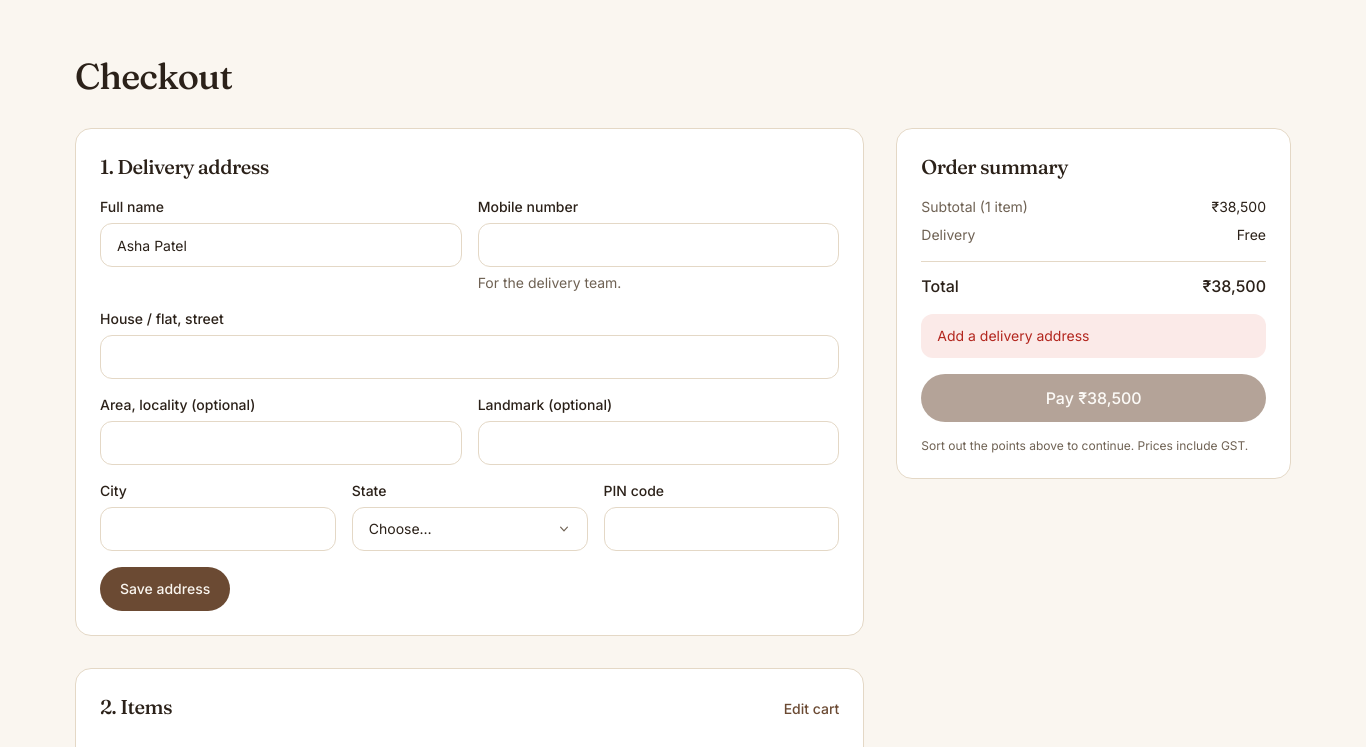
Test: checkout › first address › the form is open, with the name filled in, and checks the fields
expect the field labelled "Full name" holds "Asha Patel": met, box 100,223 -> 462,267
Step 1. Type "12345" into the field labelled "Mobile number" → (659, 245), box 478,223 -> 839,267
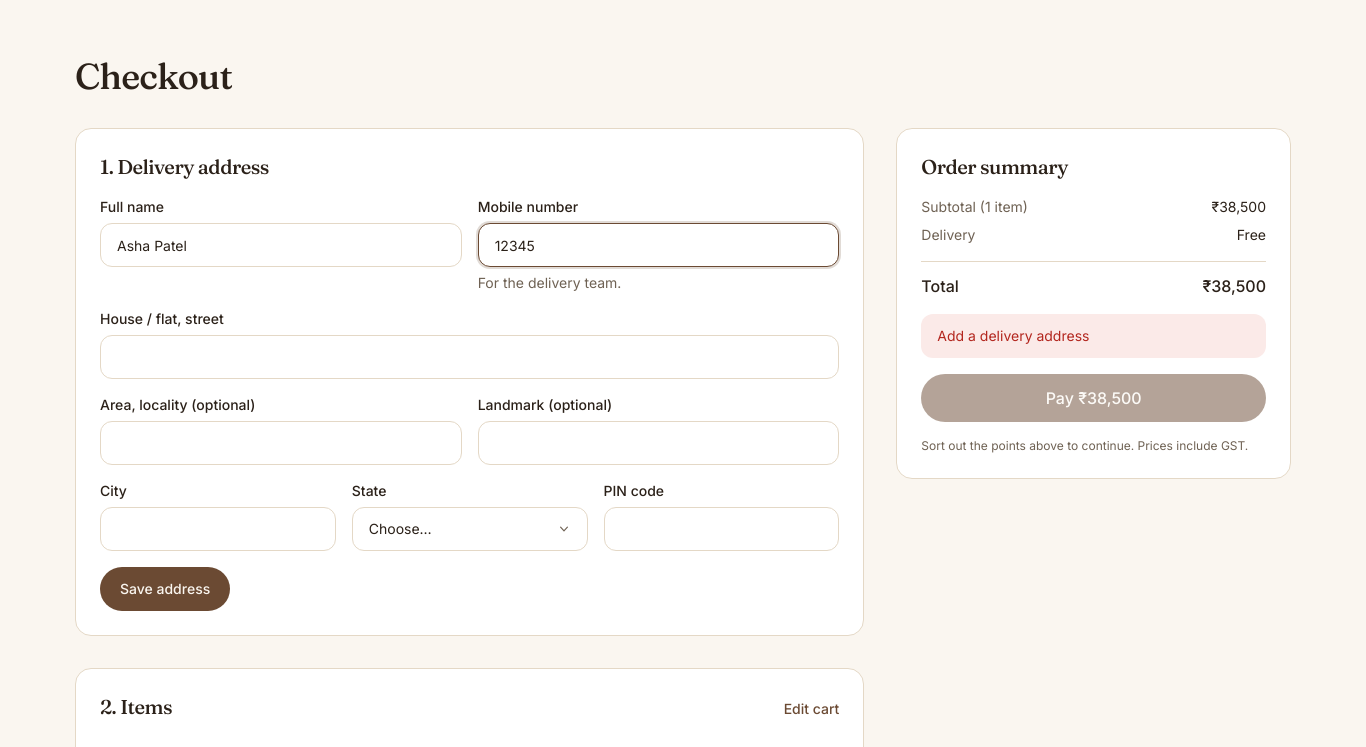
Step 2. Type "38009" into the field labelled "PIN code" → (721, 529), box 604,507 -> 839,551
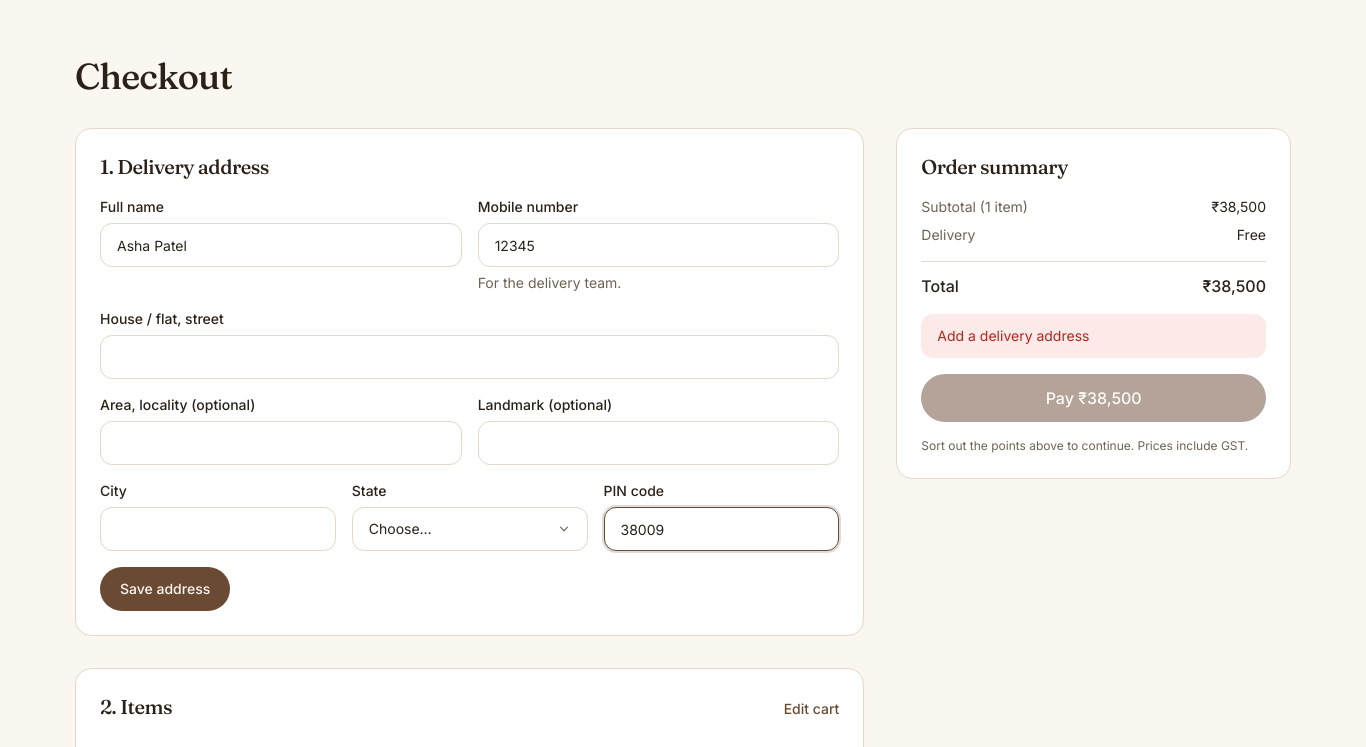
Step 3. Click the button "Save address" → (165, 589), box 100,567 -> 230,611
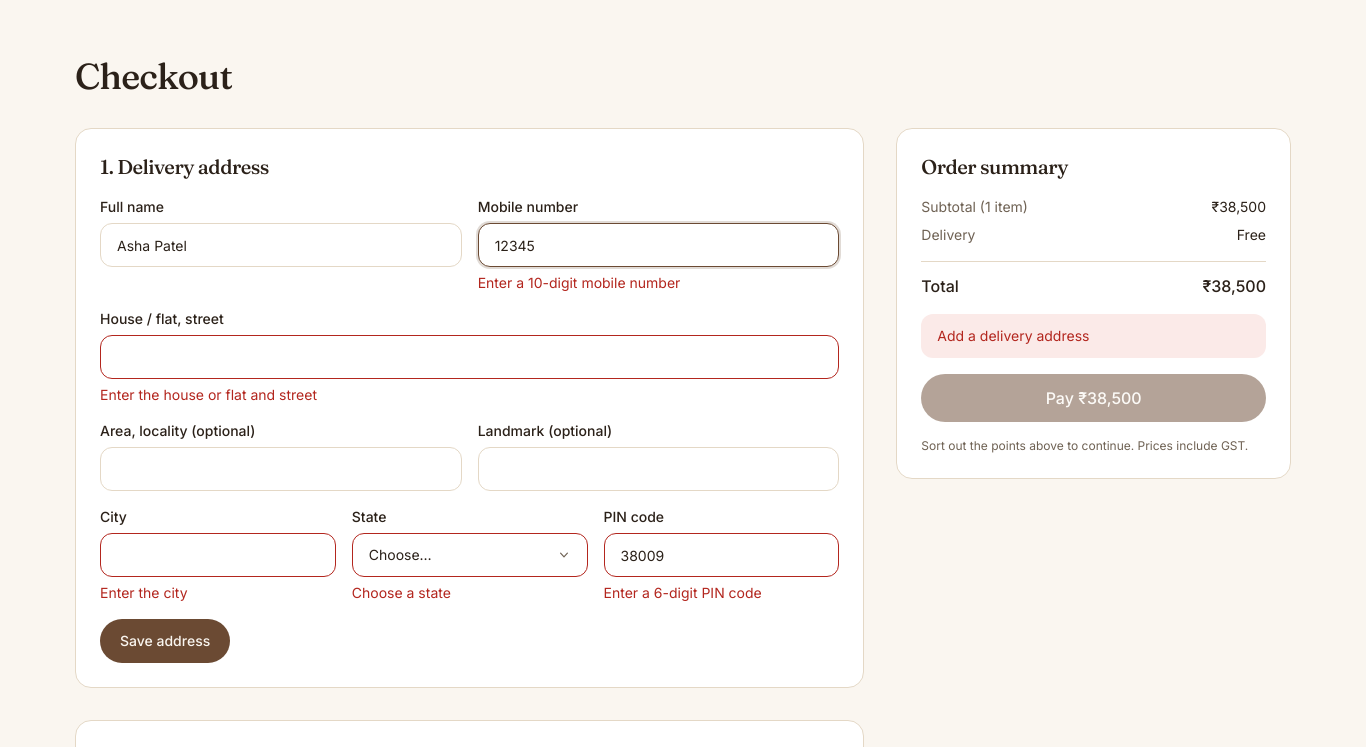
expect the text "Enter a 10-digit mobile number" is shown: met, box 478,274 -> 680,291
expect the text "Enter a 6-digit PIN code" is shown: met, box 604,584 -> 762,601
expect the text "Choose a state" is shown: met, box 352,584 -> 451,601
